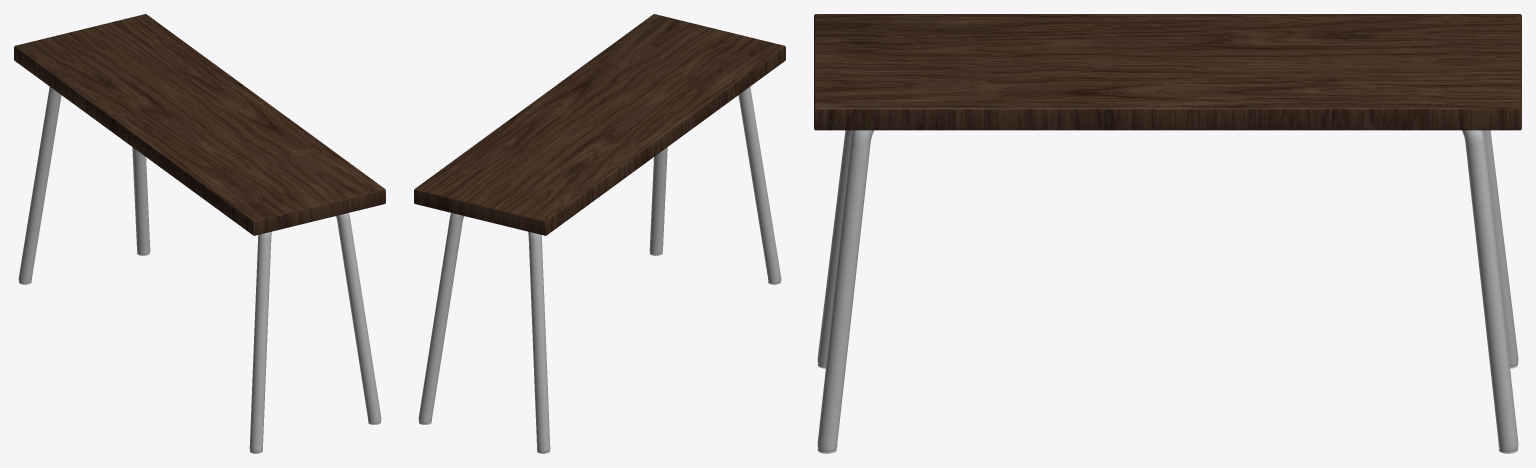
The model's file is wooden_table.glb.
The picture shows the model from 3 angles, left to right: view 1: azimuth 30°, elevation 25°; view 2: azimuth 150°, elevation 25°; view 3: azimuth 270°, elevation 25°; orthographic projection. The views are drawn at different scales.
Parts seen in each view (by area): view 1: Object_2; view 2: Object_2; view 3: Object_2.
Boxes of the visible parts, x1,y1,x2,y2 form: Object_2: [14, 14, 385, 453]; Object_2: [414, 14, 785, 453]; Object_2: [814, 14, 1521, 453].
Size of the model in its own units: 0.6365 by 1.08 by 2.
1 material, 1 textured.
